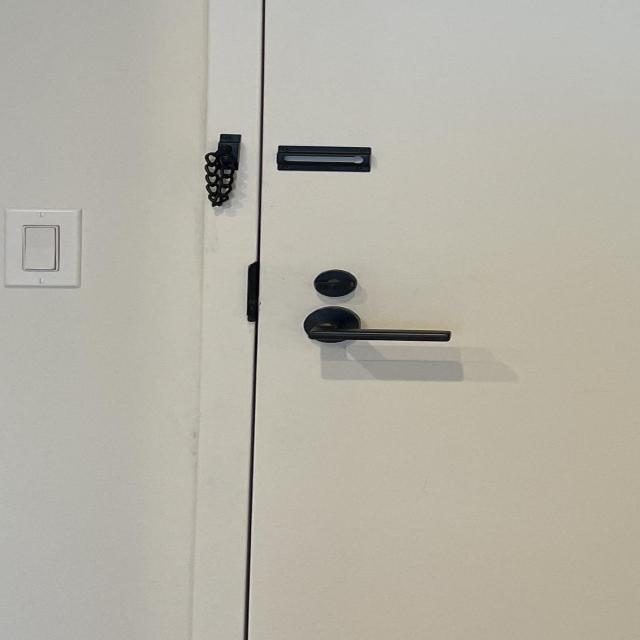doorhandle: (238, 302, 459, 356)
